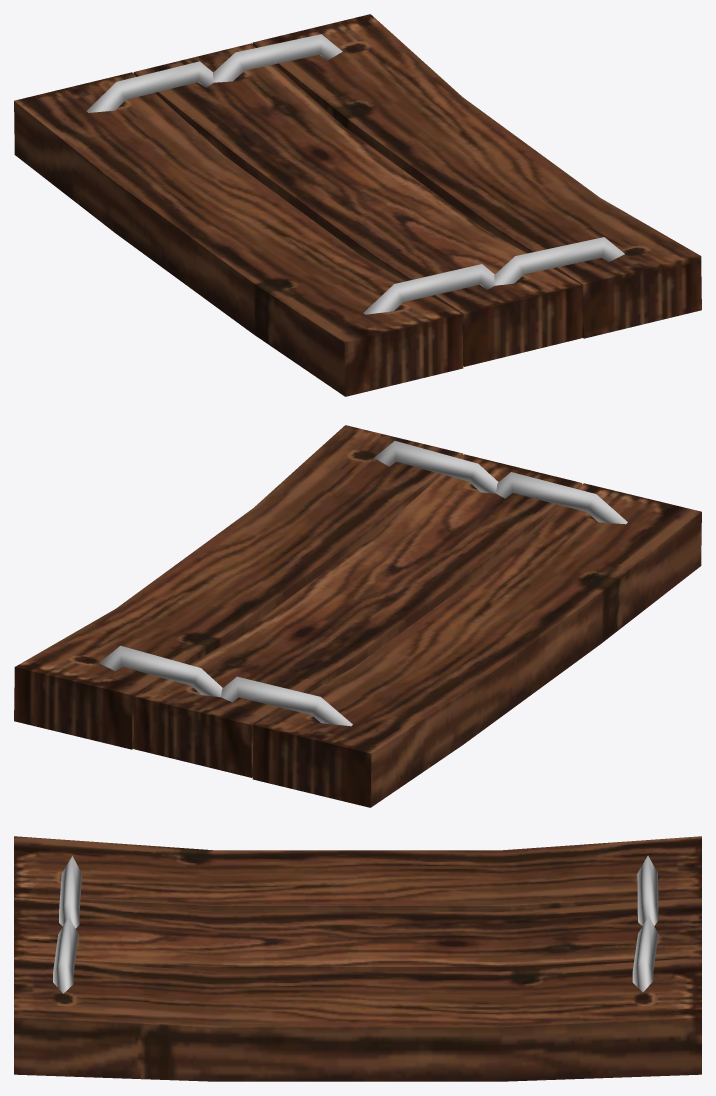
The model's file is INST_OH_RAFT_01.obj.
The picture shows the model from 3 angles, top to bottom: view 1: azimuth 30°, elevation 25°; view 2: azimuth 150°, elevation 25°; view 3: azimuth 270°, elevation 25°; orthographic projection. The views are drawn at different scales.
Visible parts, largest first — view 1: Inst_Raft_001; view 2: Inst_Raft_001; view 3: Inst_Raft_001.
Part boxes in pixels (x1,y1,x2,y2): Inst_Raft_001: (14,14,701,396); Inst_Raft_001: (14,425,701,807); Inst_Raft_001: (14,836,701,1081).
Bounding box in the file's own units: 107 × 23.63 × 171.
